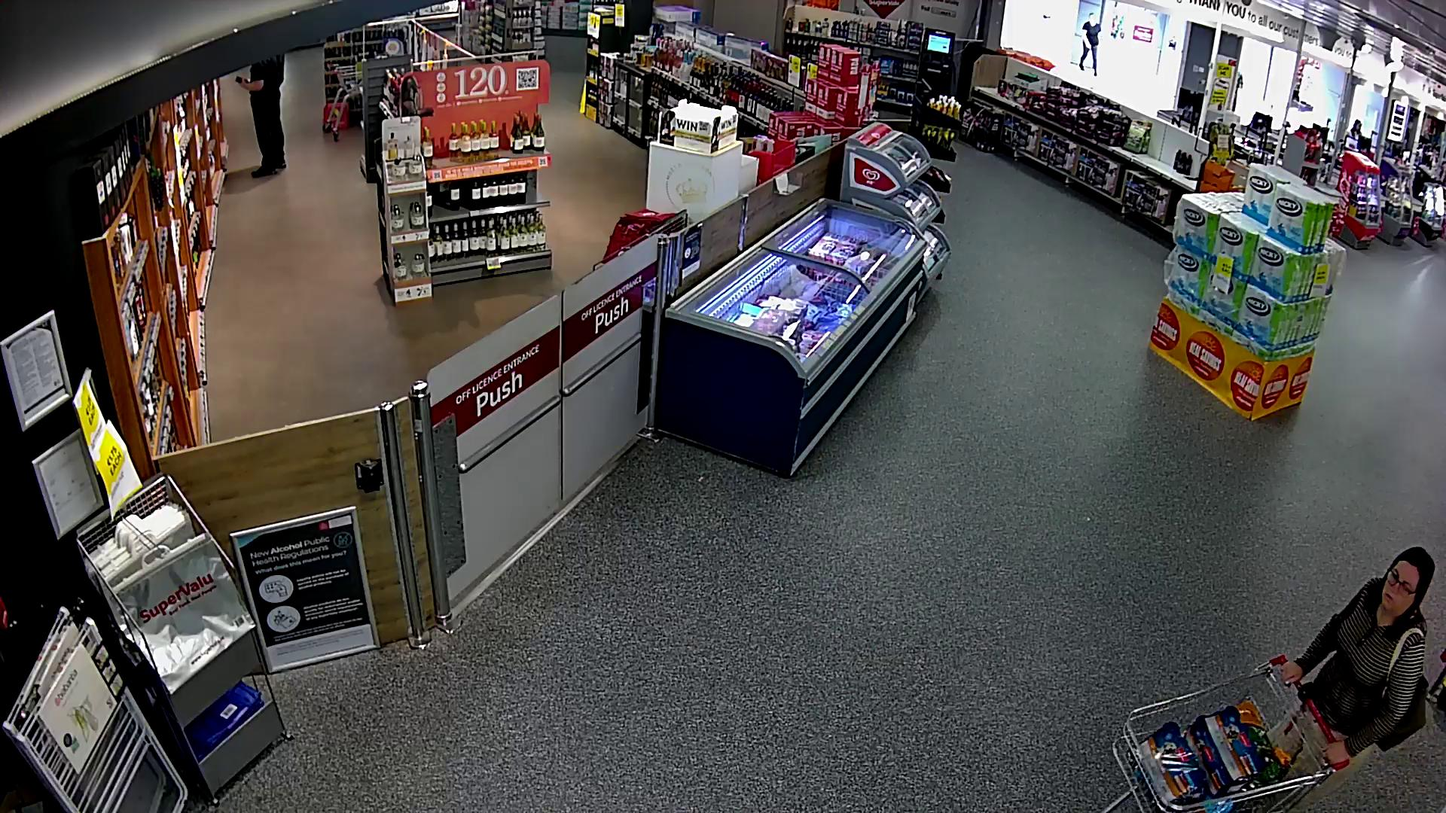backpack-or-handbag: (1377, 674, 1427, 751)
filled-trolly: (1109, 654, 1350, 813)
person: (1280, 546, 1435, 813)
person-with-basket-trolly-and-backpack-handbag: (1108, 546, 1435, 813)
